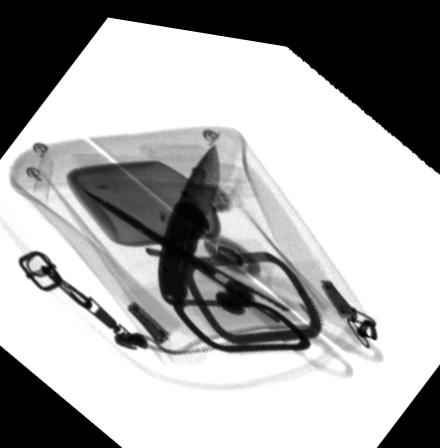Knife: (154, 133, 220, 301)
Scissors: (76, 185, 384, 368)
